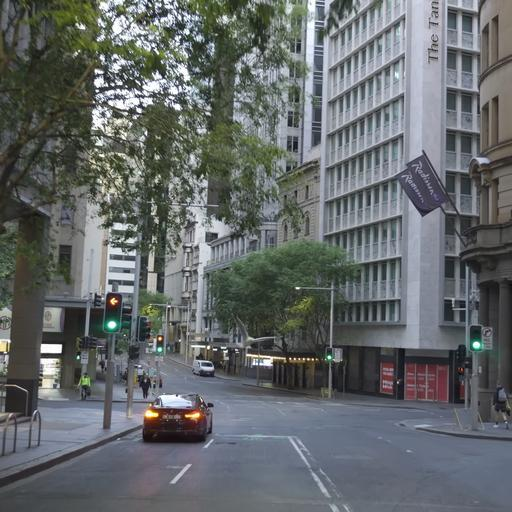Street light: (124, 198, 219, 418), (294, 284, 335, 397), (148, 302, 171, 354), (102, 292, 122, 333), (181, 289, 191, 363)
